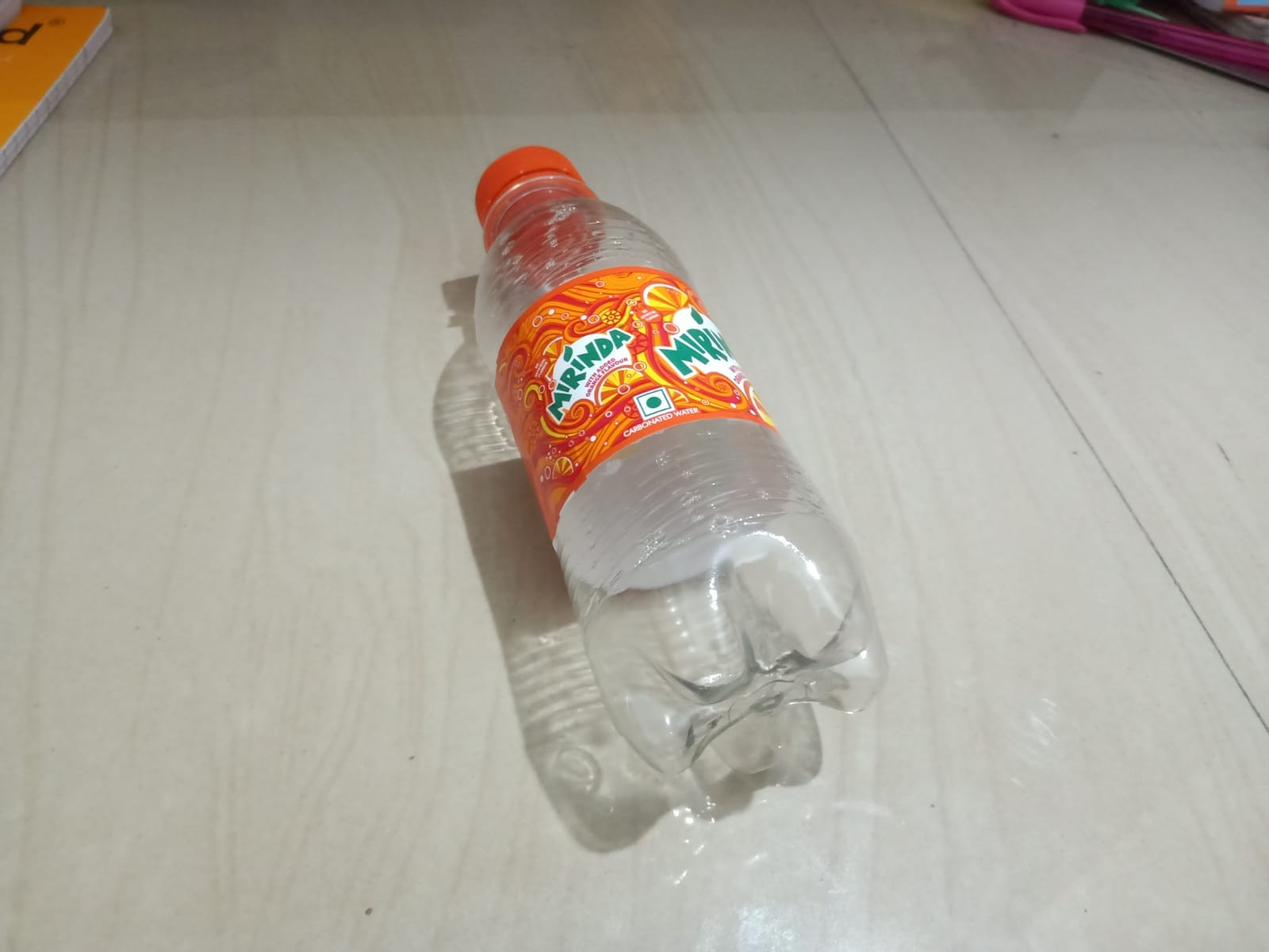plastic: (445, 117, 908, 952)
